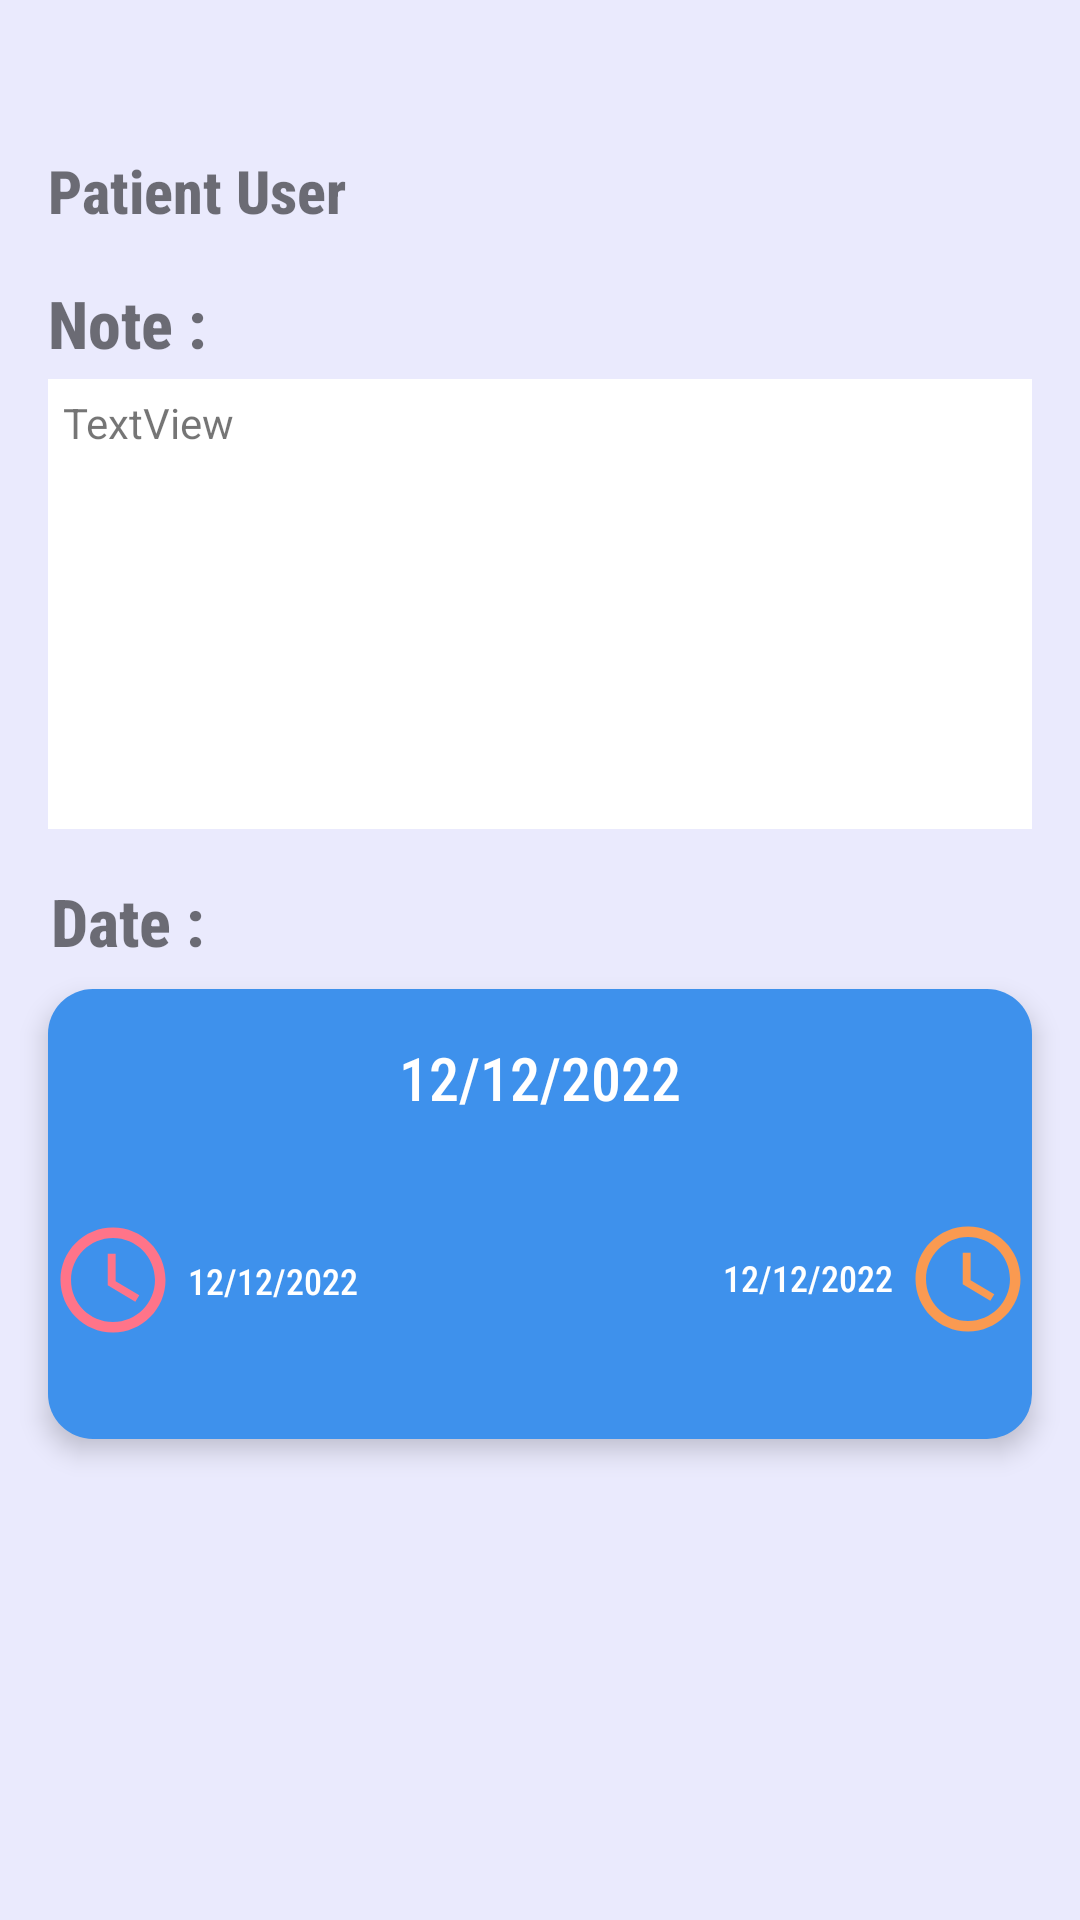

Icons on this 1080*1920 Android screen, each with its box as (x1=x1, y1=y1, x2=x2, y2=y2):
access time: (x1=915, y1=1226, x2=1021, y2=1332), (x1=60, y1=1227, x2=166, y2=1333)
